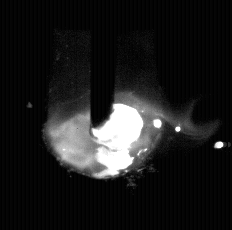arame: (91, 0, 115, 129)
poca: (42, 0, 163, 230)
